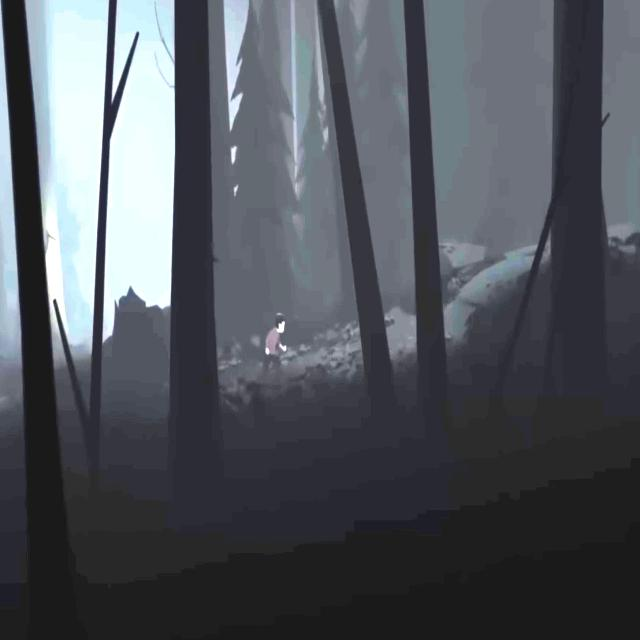boy: (262, 313, 286, 376)
